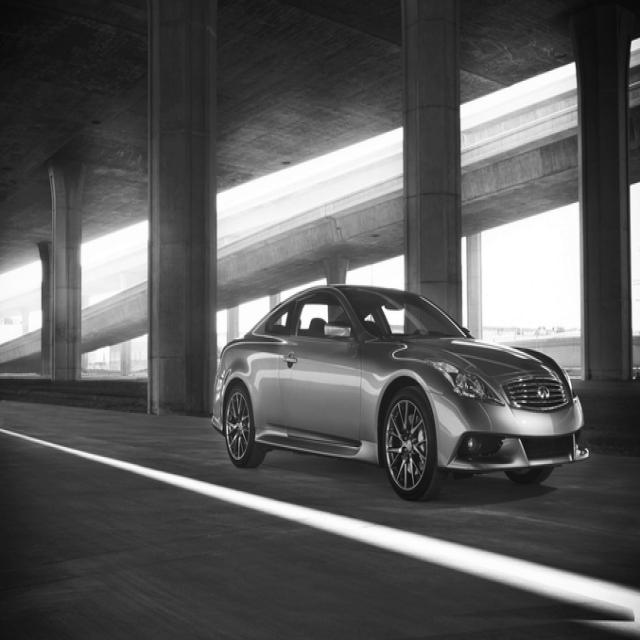car: (210, 282, 589, 501)
